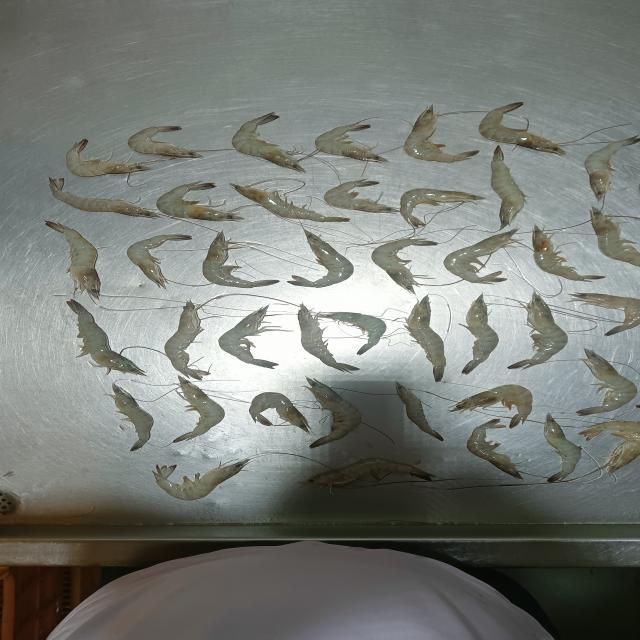shrimp: (67, 300, 145, 375), (48, 177, 165, 218), (479, 102, 566, 155), (508, 292, 567, 368), (233, 113, 309, 171), (232, 184, 347, 222), (404, 105, 478, 162), (45, 221, 99, 299), (203, 231, 278, 287), (298, 304, 358, 371), (445, 228, 518, 283), (305, 457, 432, 487), (306, 377, 360, 447), (533, 226, 603, 280), (579, 349, 636, 415), (219, 304, 278, 367), (289, 229, 353, 287), (155, 459, 247, 499), (585, 134, 639, 201), (172, 376, 224, 443), (451, 384, 531, 427), (405, 296, 445, 381), (372, 238, 436, 291), (166, 301, 209, 379), (128, 234, 191, 287), (468, 420, 523, 479), (400, 189, 483, 227), (581, 421, 639, 474), (67, 139, 151, 175), (318, 312, 386, 355), (461, 295, 498, 374), (157, 182, 235, 219), (315, 122, 387, 162), (590, 208, 639, 266), (111, 384, 153, 451), (491, 144, 525, 225), (571, 294, 639, 334), (396, 383, 443, 439), (129, 125, 202, 159), (544, 415, 581, 482), (324, 180, 398, 212), (249, 392, 309, 430)
